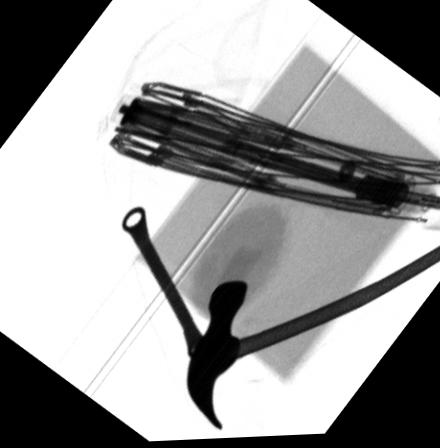Hammer: (184, 248, 440, 432)
Wrench: (120, 206, 211, 364)
